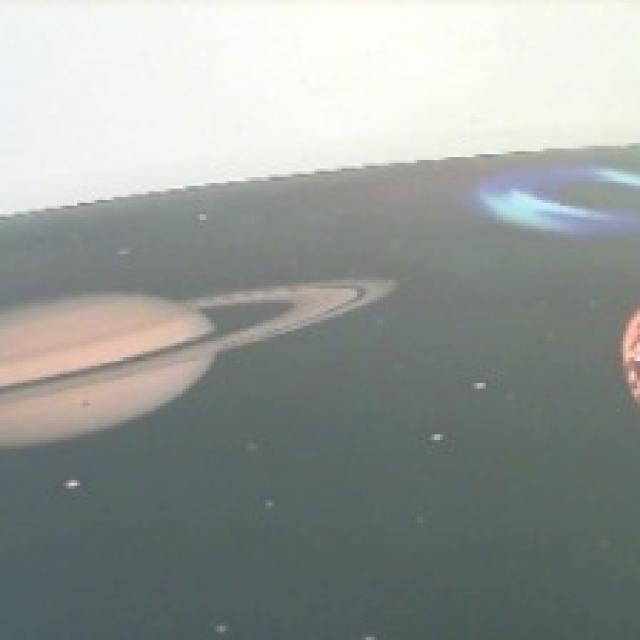Black Hole: (471, 168, 640, 238)
Saturn: (0, 279, 400, 453)
